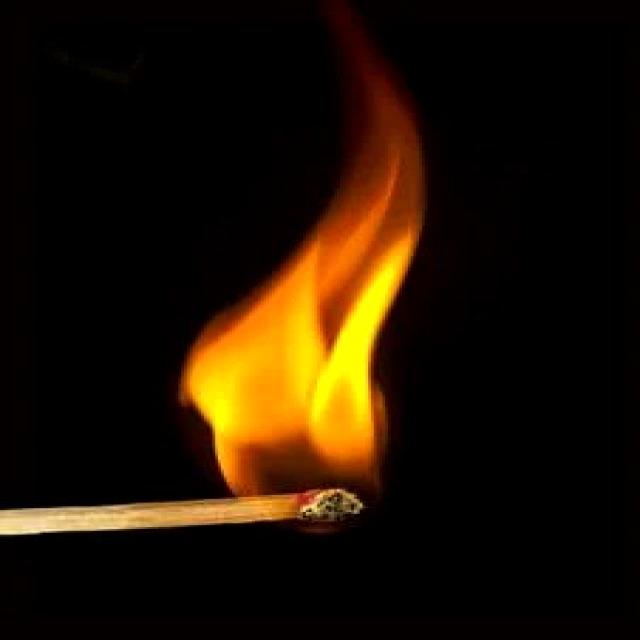fire: (194, 3, 436, 533)
